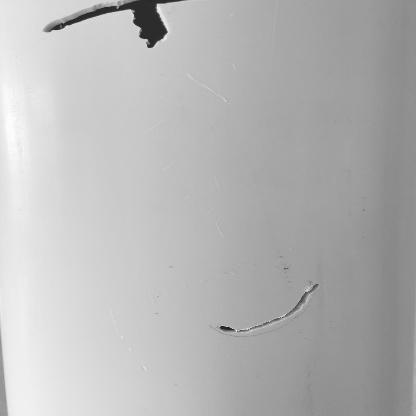fengxi: (213, 281, 322, 335), (38, 2, 195, 37)
kongdong: (129, 8, 167, 59)
